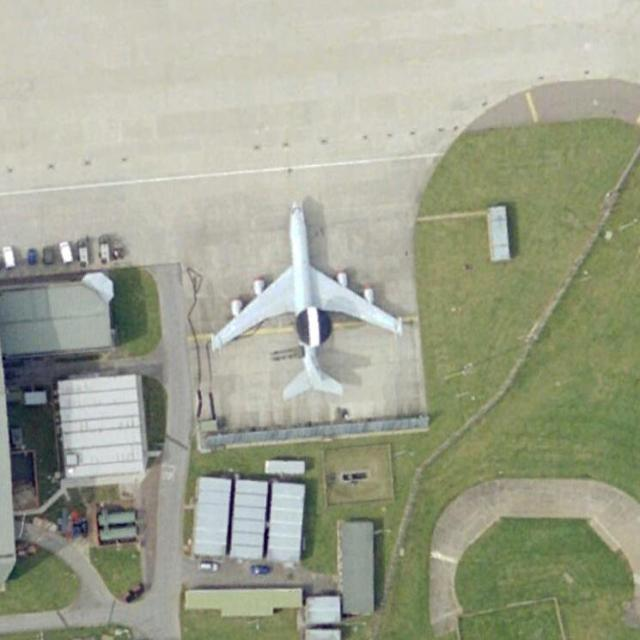fighter jet: (194, 203, 416, 414)
